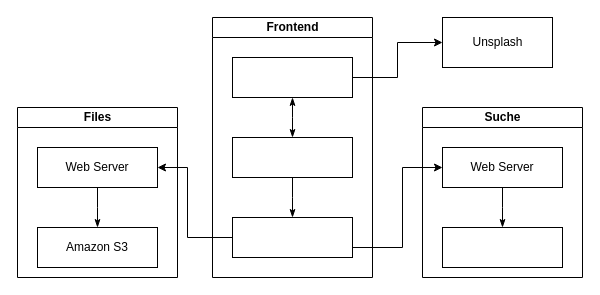
The diagram is 600 pixels wide and 295 high, and some of its shapes have lost their labels. The centre of each missing label's shape, as x and y in pixels:
Components: (292,77)
Pages: (292,157)
Services: (292,237)
SOLR: (502,247)
